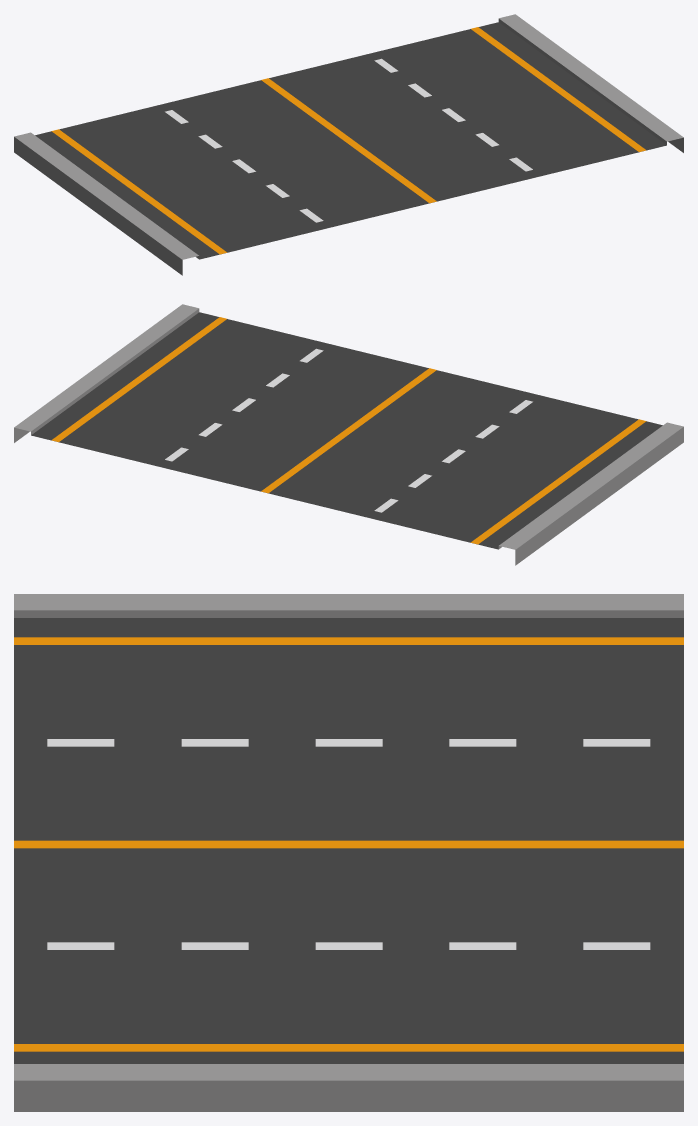
The model's file is Road_A_2L_2_1.glb.
3 views of the same model, one above another, from view 1: azimuth 30°, elevation 25°; view 2: azimuth 150°, elevation 25°; view 3: azimuth 270°, elevation 25° (orthographic). The views are drawn at different scales.
Visible parts, largest first — view 1: Road_A_2L_2_1; view 2: Road_A_2L_2_1; view 3: Road_A_2L_2_1.
Boxes of the visible parts, bbox=[...] form: Road_A_2L_2_1: bbox=[14, 14, 683, 275]; Road_A_2L_2_1: bbox=[14, 304, 683, 565]; Road_A_2L_2_1: bbox=[14, 594, 683, 1111].
Bounding box in the file's own units: 13.75 × 0.4148 × 8.
Materials: 1 (1 with a texture image).
